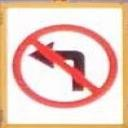NoVirarEsquerda: (11, 22, 119, 108)
